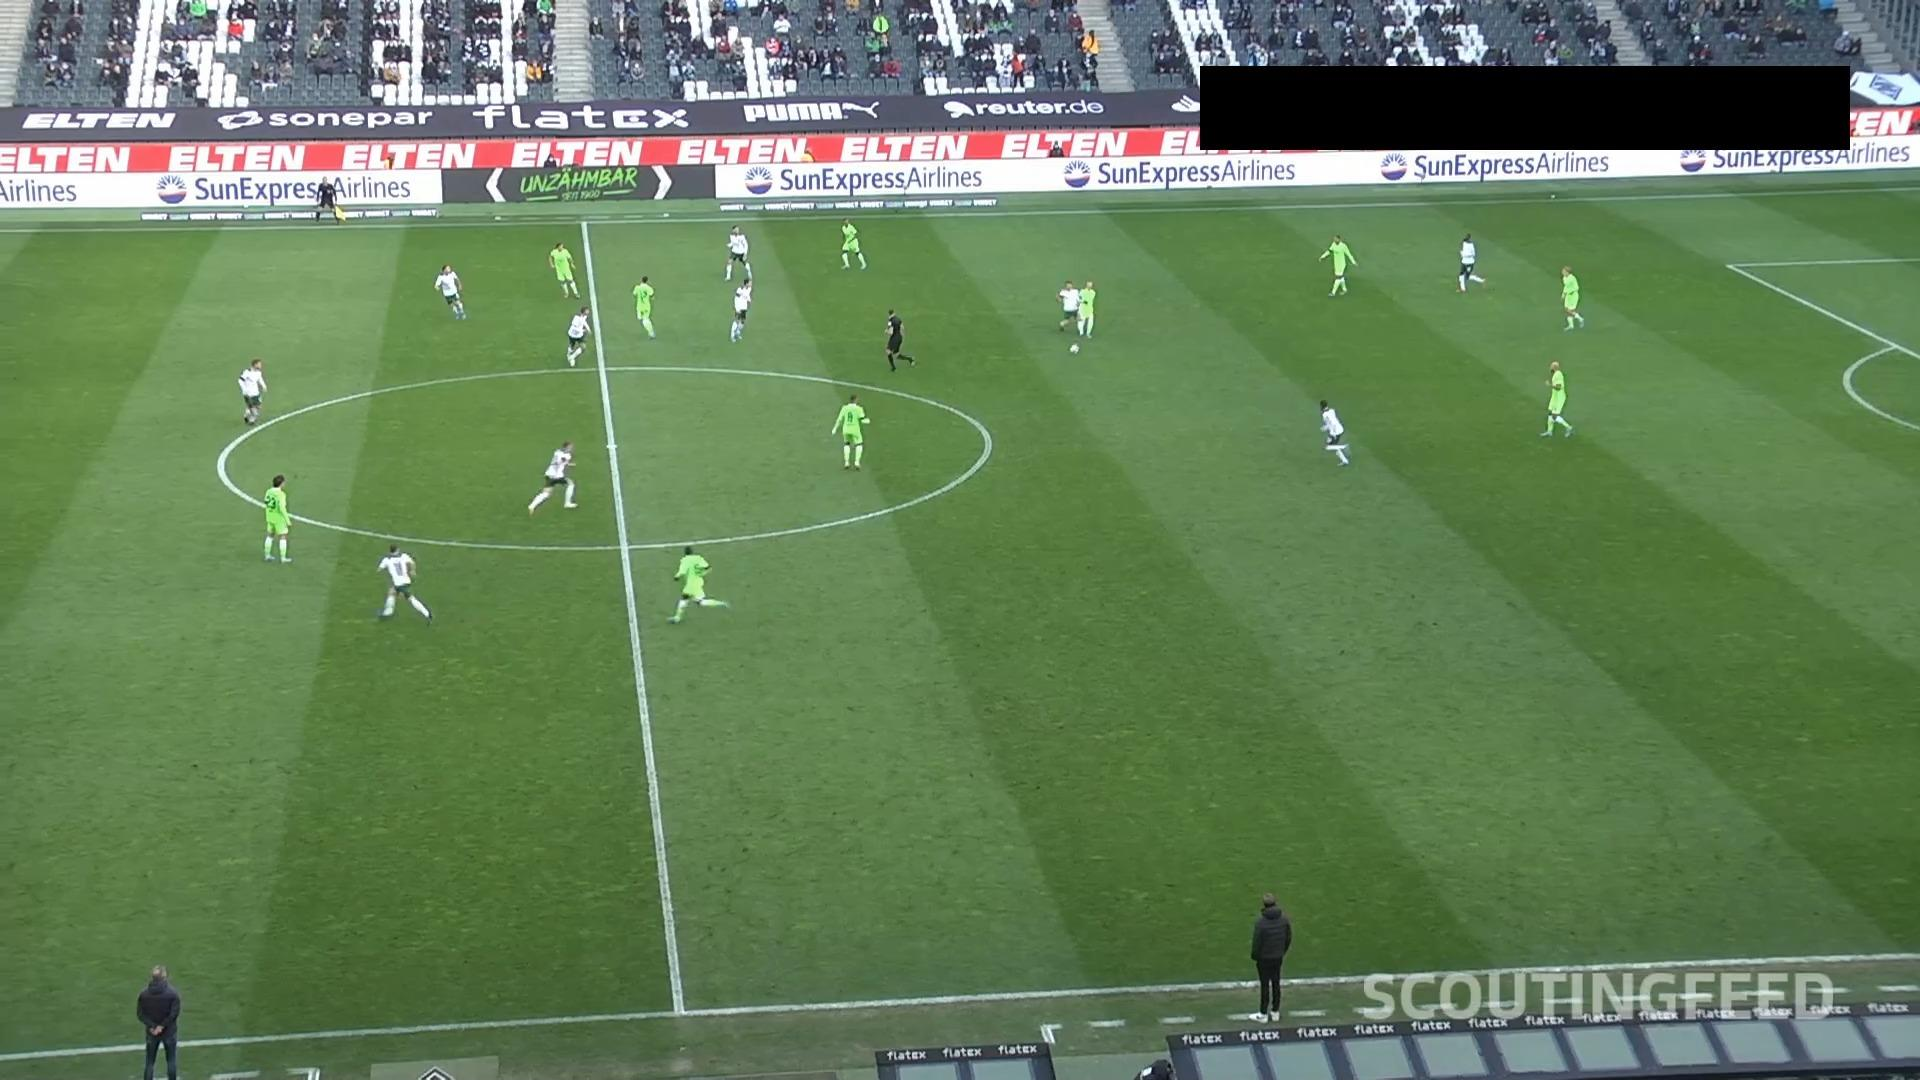ball: (1069, 343, 1078, 354)
coach: (1248, 892, 1291, 1023), (135, 963, 181, 1078)
player: (666, 544, 729, 624), (376, 543, 432, 625), (526, 440, 578, 514), (829, 393, 869, 470), (262, 474, 292, 563), (1539, 360, 1572, 437), (1318, 233, 1357, 297), (1317, 399, 1350, 466), (237, 357, 266, 424), (547, 240, 580, 298), (433, 264, 466, 320), (1455, 232, 1485, 293), (723, 223, 751, 282), (1559, 264, 1584, 330), (565, 305, 591, 367), (728, 277, 752, 342), (631, 274, 655, 339), (838, 217, 867, 270), (1056, 279, 1080, 332), (1076, 280, 1096, 338)
referee: (883, 307, 915, 371), (310, 172, 344, 230), (1134, 1058, 1175, 1079)
